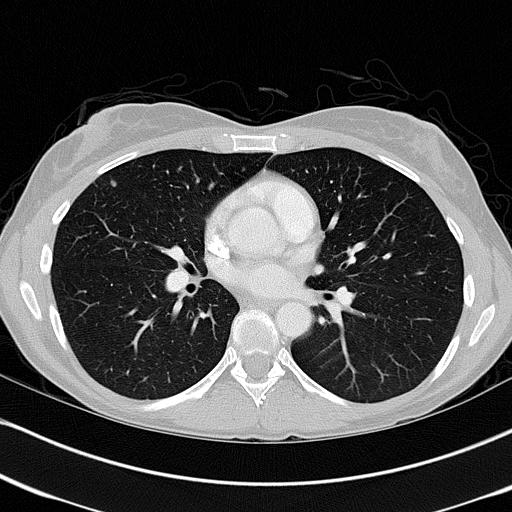nodule: (108, 178, 119, 189)
